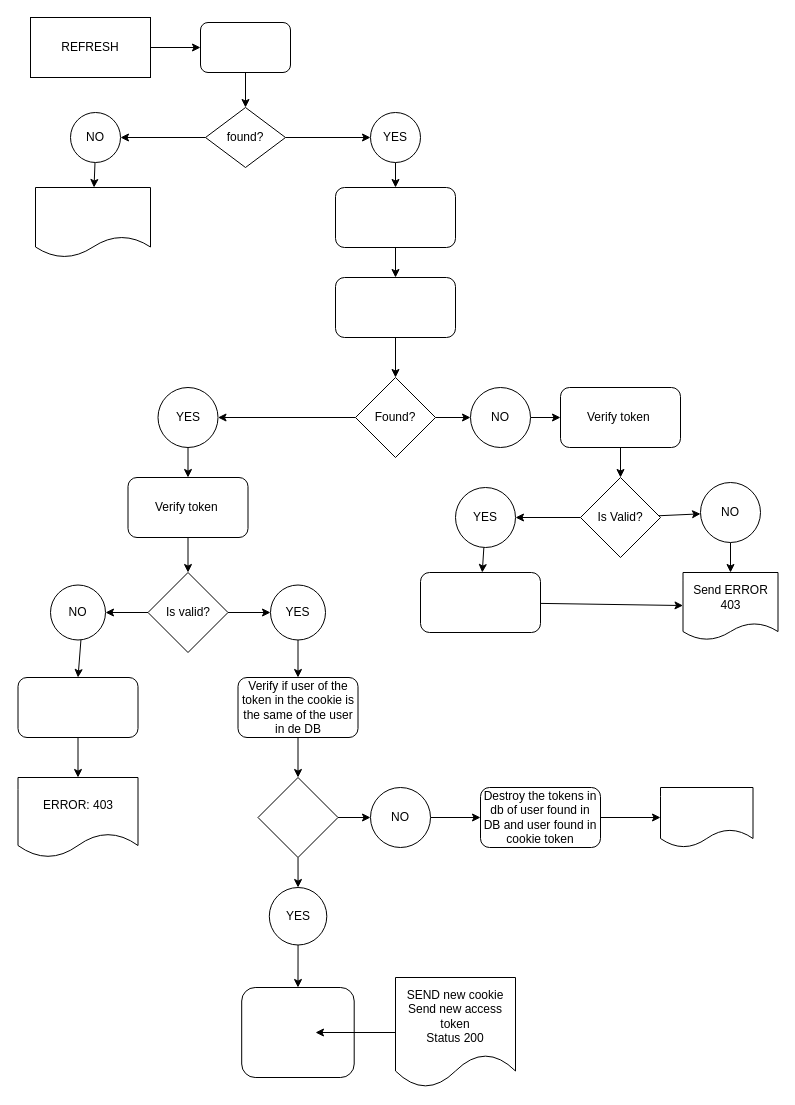
Image size: 795x1105. Some labels were removed from this diagram. The shapes that lost their labels are listed below. From the top down, each one's box as (x1, y1, x2, y2) in pixels, then its label:
(200, 22, 290, 72): Get cookies
(34, 186, 150, 258): ERROR 401 (because unlogged)
(334, 186, 456, 248): Store old cookie in refreshToken variable Clear cookies
(334, 276, 456, 338): Search refresh token in DB
(420, 572, 540, 632): REUSE SITUATION Destroy all refresh token in db of user of cookies token.
(17, 676, 138, 738): REUSE SITUATION Destroy all DB tokens of the user of the token found in DB
(257, 776, 338, 858): They are the same?
(660, 786, 753, 848): SEND 403
(241, 986, 354, 1078): Create a new refresh token Destroy the old from DB Davve the new one
